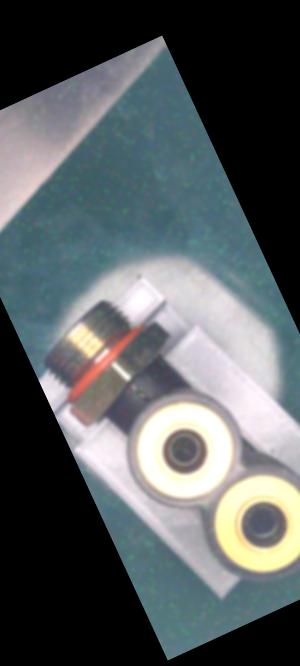craze: (126, 374, 150, 408)
